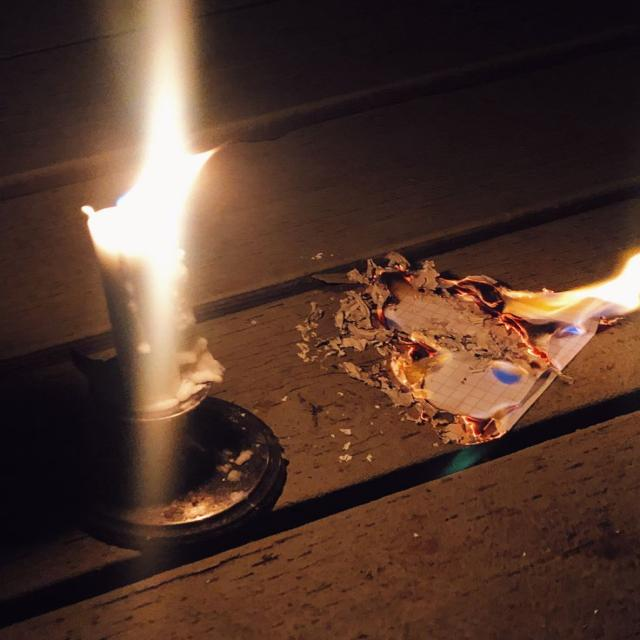fire: (495, 247, 640, 335), (139, 58, 193, 221)
